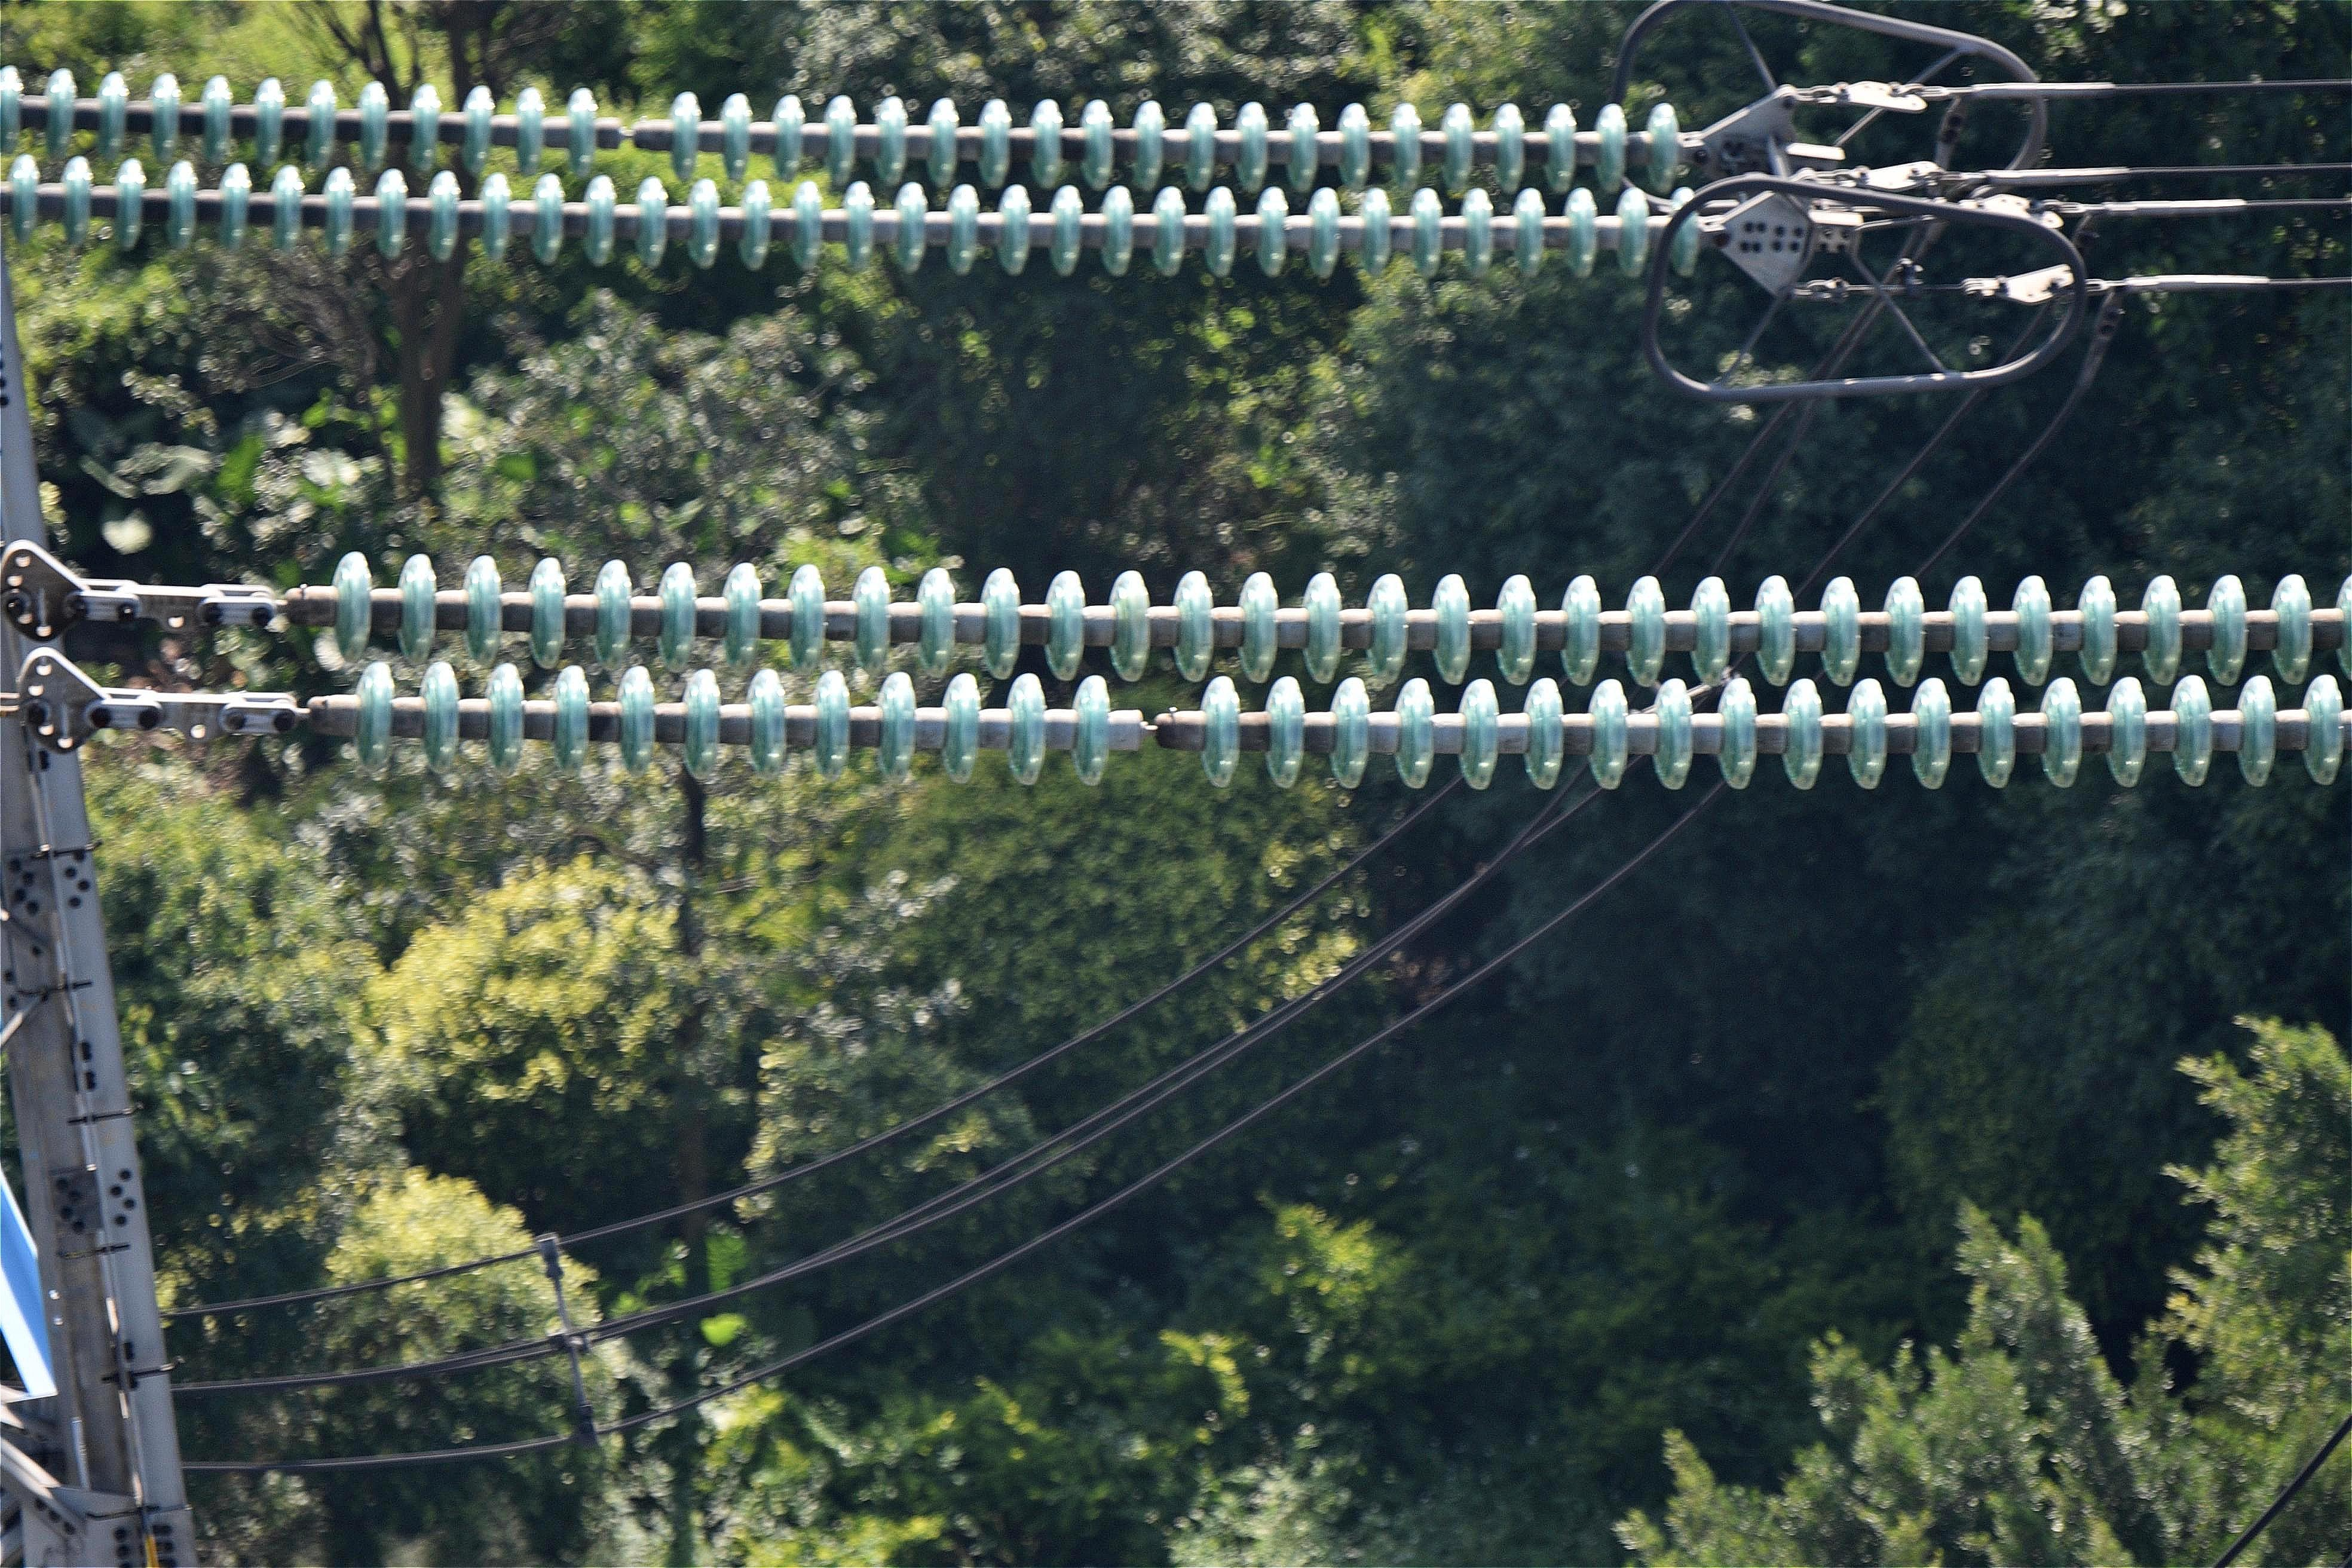insultor3: (331, 548, 2340, 791), (0, 63, 1703, 285)
